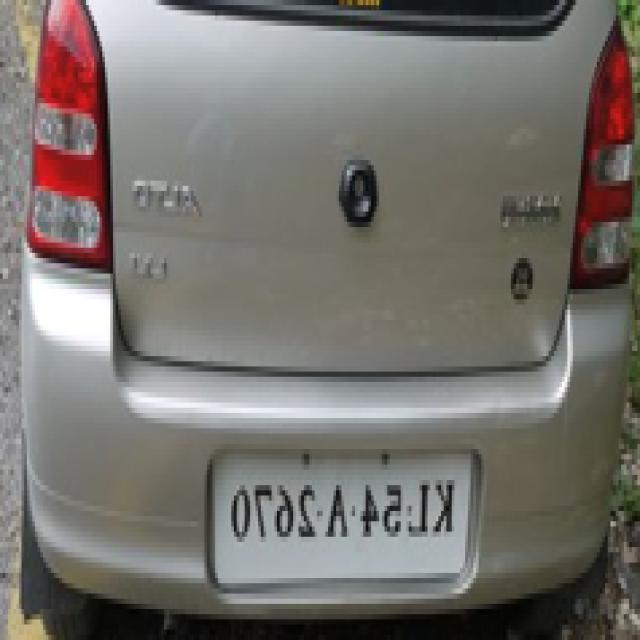number-plate: (216, 434, 483, 588)
